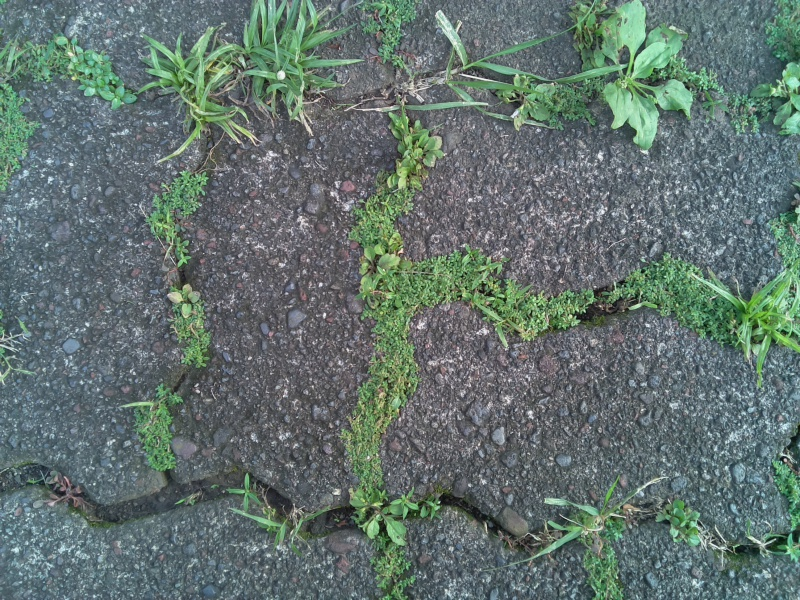Weed: (387, 236, 584, 351), (338, 278, 426, 503), (587, 2, 701, 161), (601, 241, 738, 361), (239, 4, 347, 137), (139, 29, 245, 155), (414, 16, 543, 111), (663, 52, 765, 139), (537, 478, 647, 552), (714, 270, 798, 366), (139, 165, 210, 266), (53, 30, 138, 111), (119, 382, 191, 474), (345, 175, 421, 254), (351, 1, 424, 74), (376, 119, 450, 189), (164, 280, 214, 372), (348, 487, 419, 547), (348, 241, 410, 304), (364, 532, 419, 600), (507, 68, 560, 135), (651, 495, 711, 554), (758, 61, 800, 145), (551, 75, 603, 135), (580, 544, 632, 599), (262, 506, 322, 550), (223, 466, 267, 513), (745, 528, 785, 565), (415, 496, 448, 525), (174, 489, 205, 515)
